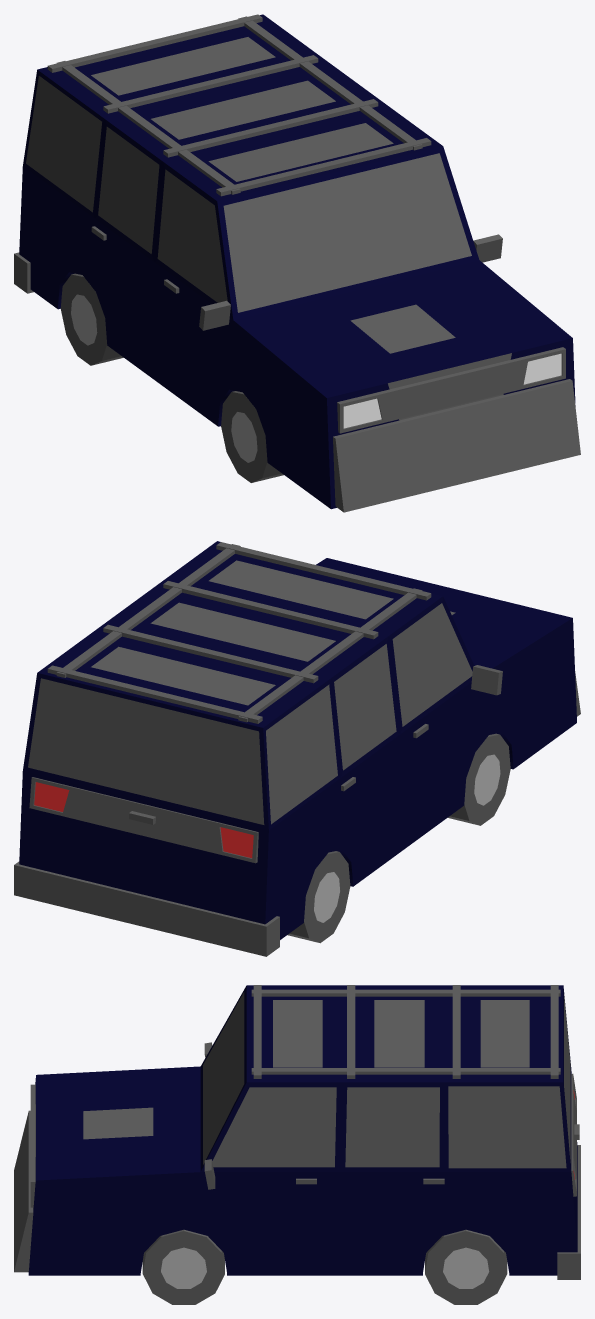
Rendered from SM_Car_02_05.FBX.
3 renders of one model, top to bottom at view 1: azimuth 30°, elevation 25°; view 2: azimuth 150°, elevation 25°; view 3: azimuth 270°, elevation 25°, orthographic. The views are drawn at different scales.
Visible parts, largest first — view 1: SM_Car_02_05, SM_Wheel_LFront002, SM_Wheel_RBack001; view 2: SM_Car_02_05, SM_Wheel_LFront002, SM_Wheel_RBack001; view 3: SM_Car_02_05, SM_Wheel_LBack001, SM_Wheel_LFront001.
Part boxes in pixels (x1,y1,x2,y2): SM_Car_02_05: (14,14,580,512); SM_Wheel_LFront002: (221,391,283,482); SM_Wheel_RBack001: (60,273,123,365); SM_Car_02_05: (14,541,580,956); SM_Wheel_LFront002: (448,733,510,825); SM_Wheel_RBack001: (287,851,350,943); SM_Car_02_05: (14,985,580,1279); SM_Wheel_LBack001: (425,1229,507,1304); SM_Wheel_LFront001: (142,1229,224,1304).
Size of the model in its own units: 1.82 by 1.48 by 3.41.
Materials: 1 (1 with a texture image).
